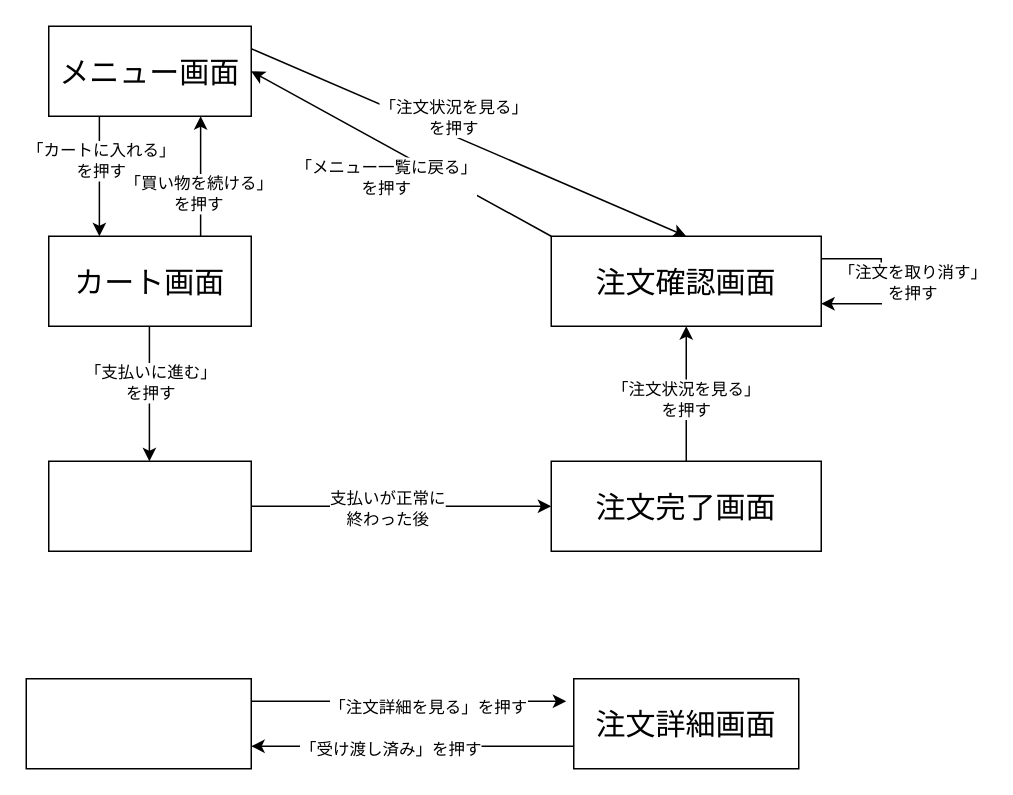
Image size: 1013x795. Some labels were removed from this diagram. The centre of each missing label's shape, as x and y in pixels:
"支払い画面" goes at [149,505].
"注文一覧画面" goes at [138,723].
